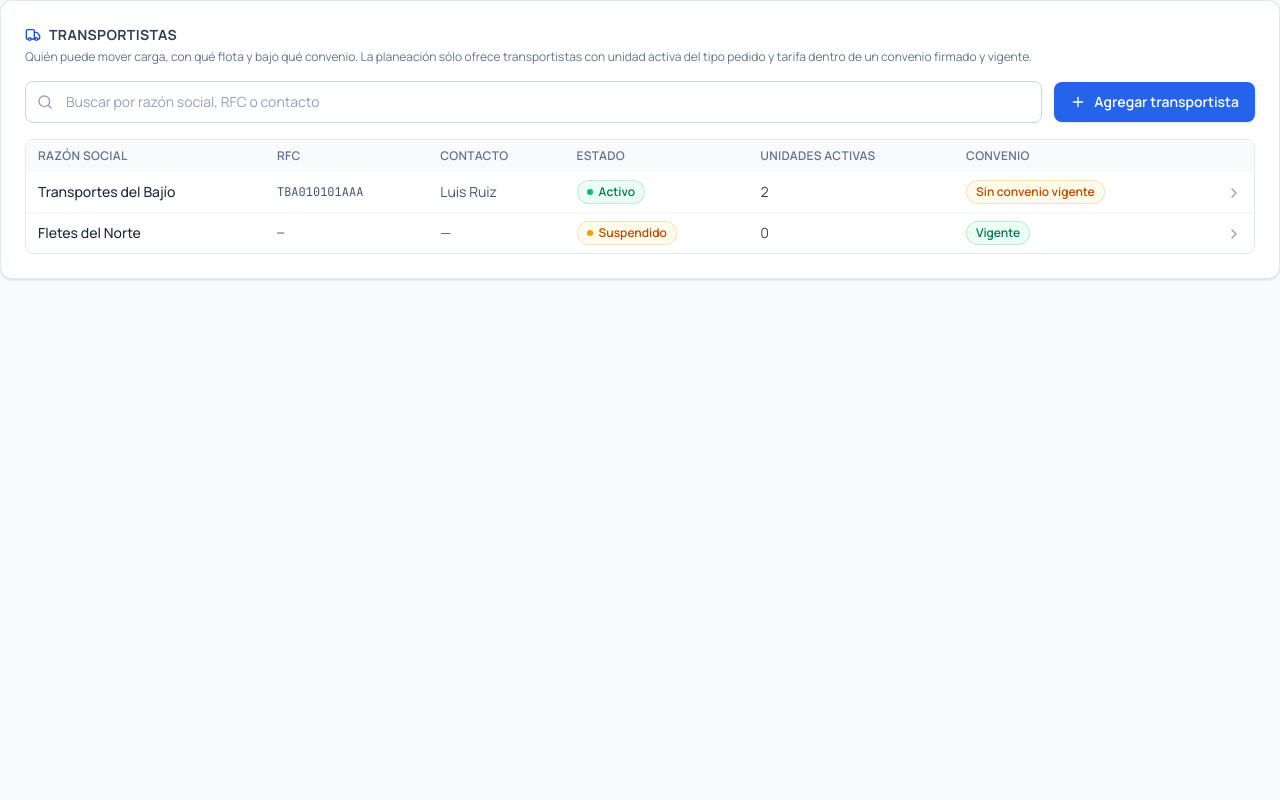
Test: TransportistasTab › warns that a rate under an unsigned convenio is not a price (D9)
The width and height of the screenshot is (1280, 800).
Click the text "Transportes del Bajío".
click(146, 192)  # box top-left (26, 172), bottom-right (265, 212)
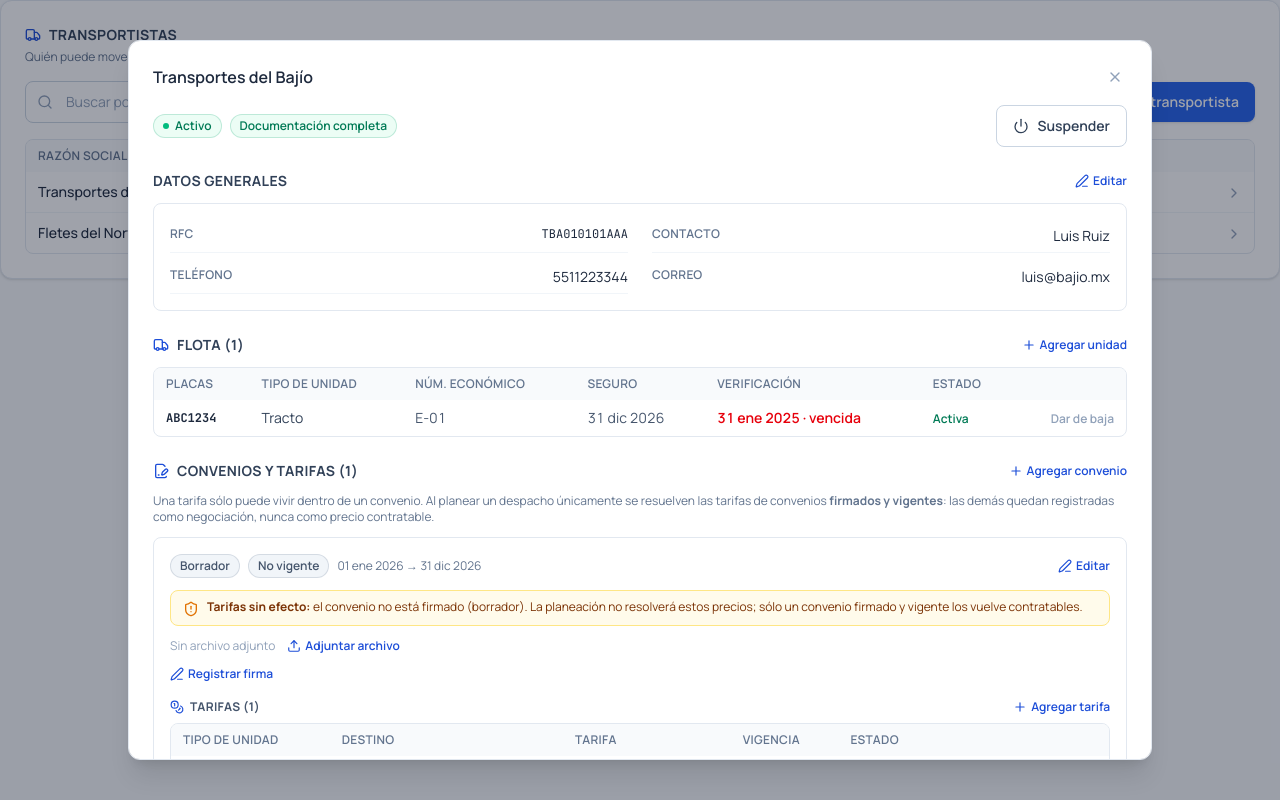
Now the text "Tarifas sin efecto:" is shown, box top-left (207, 598), bottom-right (310, 615)
Now the text "no está firmado" is shown, box top-left (313, 598), bottom-right (524, 615)
Now the text "Borrador" is shown, box top-left (170, 554), bottom-right (240, 578)
